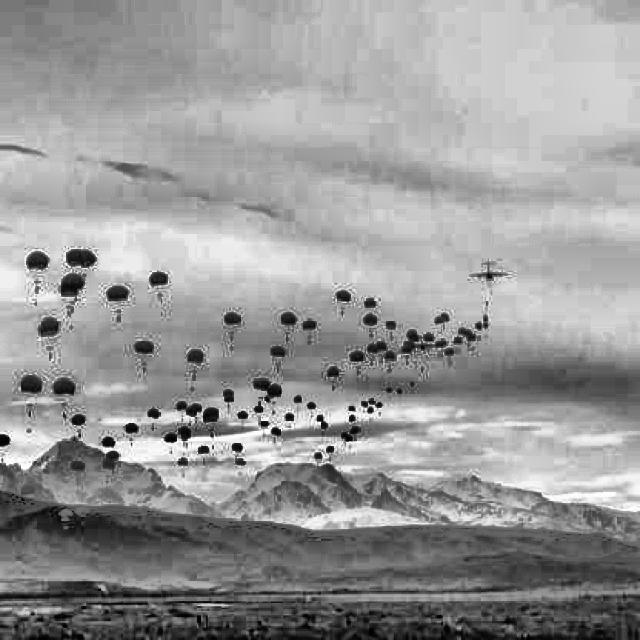C17: (470, 261, 508, 281)
